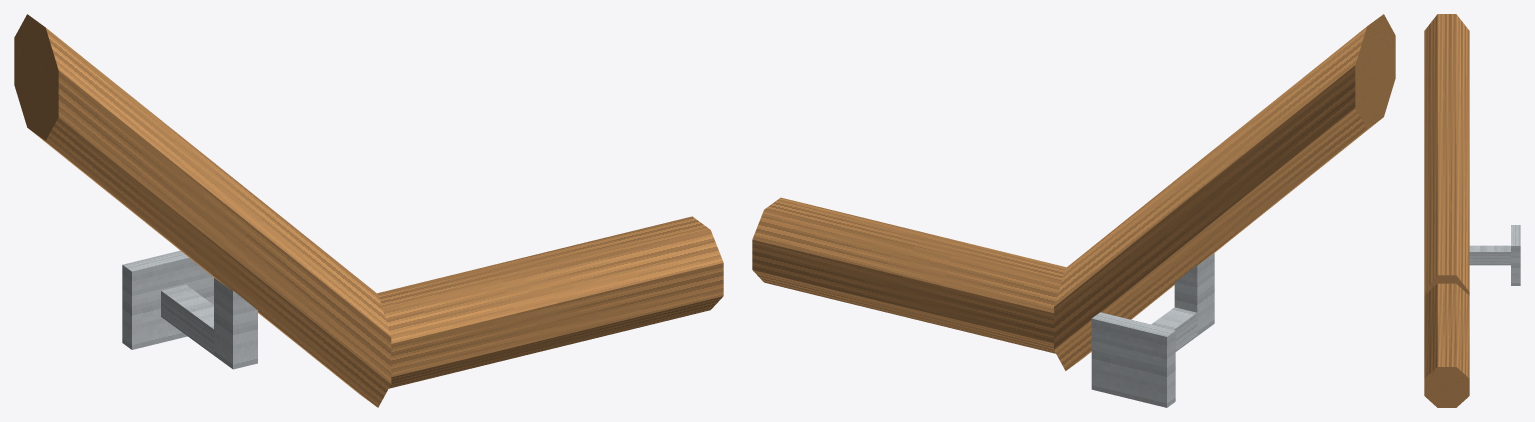
File: foot_neg.obj
3 renders of one model, left to right at view 1: azimuth 30°, elevation 25°; view 2: azimuth 150°, elevation 25°; view 3: azimuth 270°, elevation 25°, orthographic. The views are drawn at different scales.
Visible parts, largest first — view 1: handrail_wall_oak_round_foot_neg; view 2: handrail_wall_oak_round_foot_neg; view 3: handrail_wall_oak_round_foot_neg.
Part boxes in pixels (x1,y1,x2,y2): handrail_wall_oak_round_foot_neg: [14, 14, 723, 407]; handrail_wall_oak_round_foot_neg: [752, 14, 1395, 407]; handrail_wall_oak_round_foot_neg: [1424, 14, 1520, 407].
Bounding box in the file's own units: 1 × 0.6633 × 0.2452.
